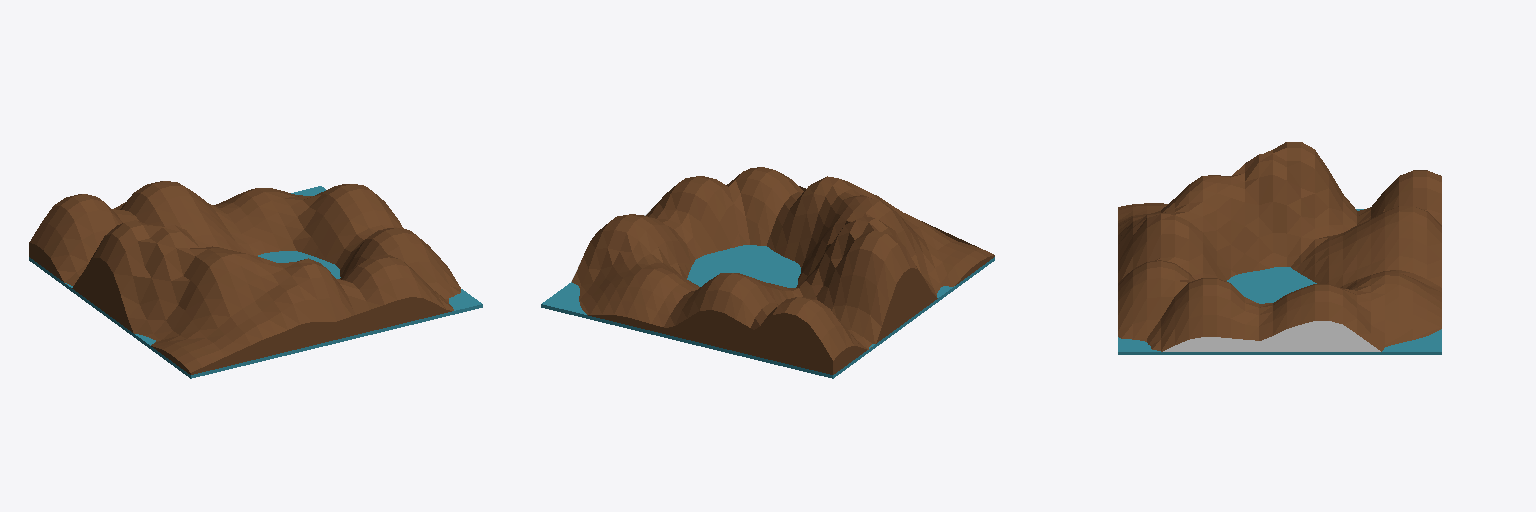
File: terrain.obj
3 views of the same model, side by side, from view 1: azimuth 30°, elevation 25°; view 2: azimuth 150°, elevation 25°; view 3: azimuth 270°, elevation 25° (orthographic).
Parts seen in each view (by area): view 1: Mesh1 Model; view 2: Mesh1 Model; view 3: Mesh1 Model.
Part boxes in pixels (x1,y1,x2,y2): Mesh1 Model: (29, 181, 482, 378); Mesh1 Model: (541, 167, 994, 378); Mesh1 Model: (1118, 142, 1441, 354).
Size of the model in its own units: 2.4 by 0.865 by 2.3.